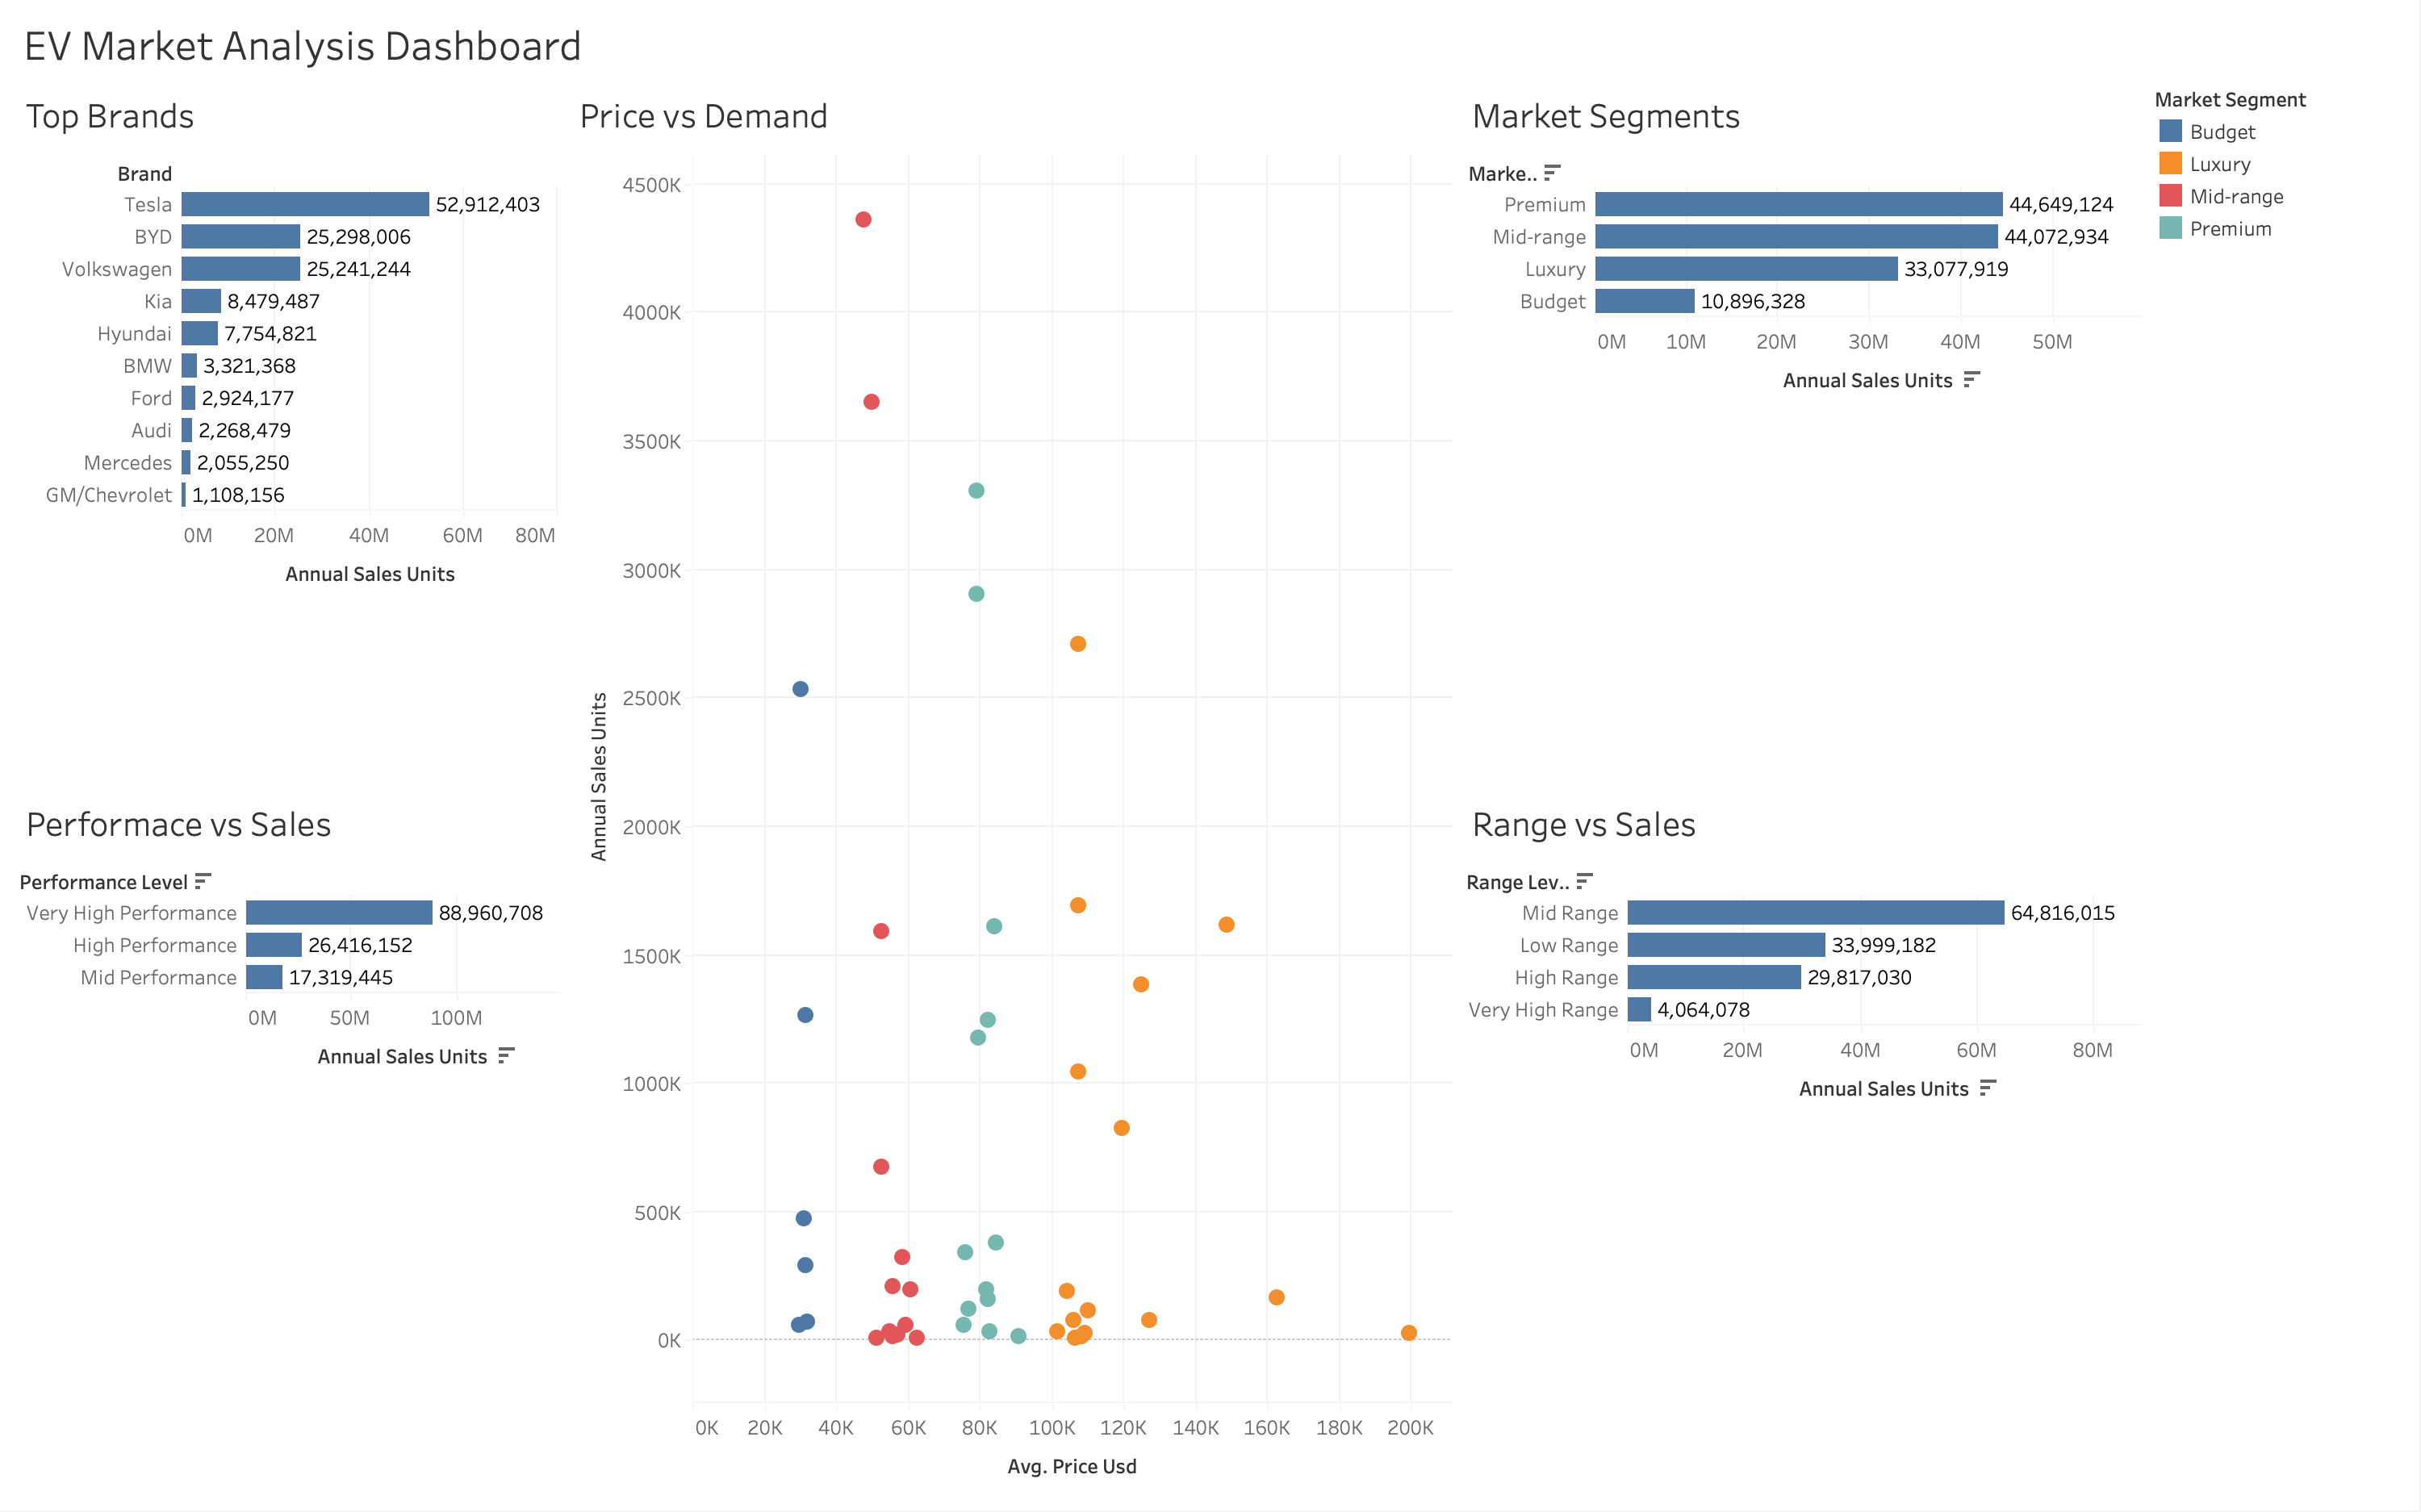

Layout of this report page (visuals, bound fields, positions):
{"tool":"tableau","page":{"name":"EV Market Analysis Dashboard","canvas":[1000,1000],"units":"permille","ordinal":0},"visuals":[{"type":"worksheet","title":"Top Brands","mark":"Bar","rows":["brand"],"cols":["annual_sales_units"],"box":[5.3,8.5,228.8,491.5]},{"type":"worksheet","title":"Price vs Demand","mark":"Circle","rows":["annual_sales_units"],"cols":["price_usd"],"box":[234.2,8.5,368.9,982.9]},{"type":"worksheet","title":"Market Segments","mark":"Automatic","rows":["market_segment"],"cols":["annual_sales_units"],"box":[603.1,8.5,284.9,491.5]},{"type":"legend","title":"Price vs Demand","param":"[federated.1ubr6640xb7bbj1gi8usj1vlhfwt].[none:market_segment:nk]","box":[887.9,8.5,106.7,113.1]},{"type":"worksheet","title":"Performace vs Sales","mark":"Automatic","rows":["Calculation_4747828299534337"],"cols":["annual_sales_units"],"box":[5.3,500,228.8,491.5]},{"type":"worksheet","title":"Range vs Sales","mark":"Automatic","rows":["Calculation_4747828300042242","Calculation_4747828300042242"],"cols":["annual_sales_units"],"box":[603.1,500,284.9,491.5]}]}

Visuals, with their boxes on the dashboard's canvas, which has no fixed pixel size, in thousandths of its width and height (x1, y1, x2, y2). These are canvas units, not pixel positions in the 2421x1512 screenshot, which may show the page scaled, cropped or inside an application window:
"Top Brands" worksheet (Bar marks): box(5, 8, 234, 500)
"Price vs Demand" worksheet (Circle marks): box(234, 8, 603, 991)
"Market Segments" worksheet: box(603, 8, 888, 500)
"Price vs Demand" legend: box(888, 8, 995, 122)
"Performace vs Sales" worksheet: box(5, 500, 234, 992)
"Range vs Sales" worksheet: box(603, 500, 888, 992)
